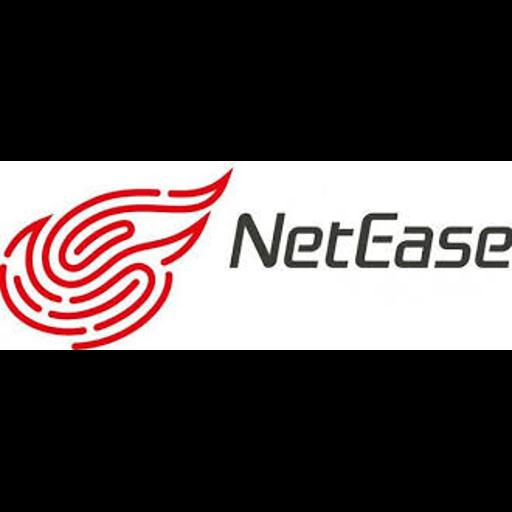NetEase: (0, 161, 512, 350)
